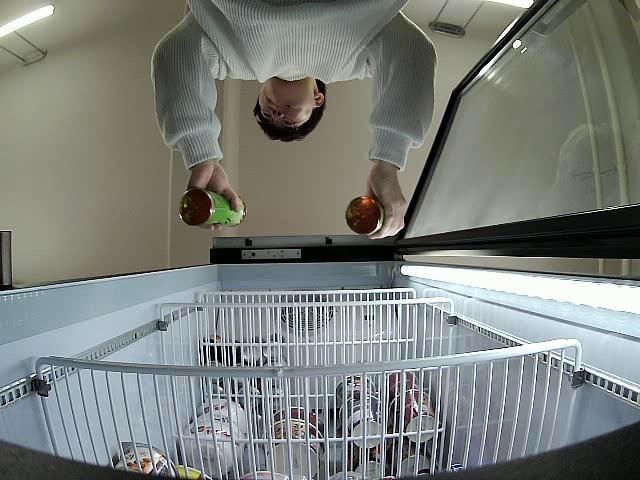19_17cha: (179, 186, 250, 228), (346, 198, 384, 236)
